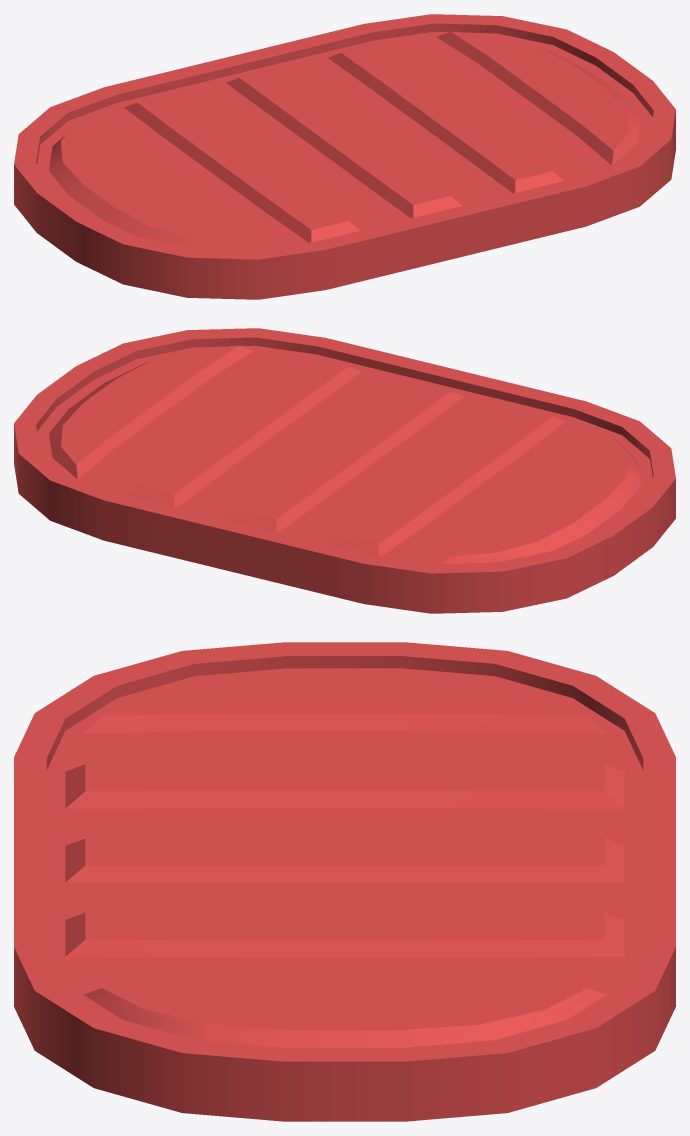
The model's file is Moneda1.fbx.
The picture shows the model from 3 angles, top to bottom: view 1: azimuth 30°, elevation 25°; view 2: azimuth 150°, elevation 25°; view 3: azimuth 270°, elevation 25°; orthographic projection. The views are drawn at different scales.
Visible parts, largest first — view 1: MonedaMods.002; view 2: MonedaMods.002; view 3: MonedaMods.002.
Part boxes in pixels (x1,y1,x2,y2): MonedaMods.002: [14, 14, 675, 299]; MonedaMods.002: [14, 328, 675, 613]; MonedaMods.002: [14, 642, 675, 1121].
Size of the model in its own units: 10 by 0.6667 by 6.67.
